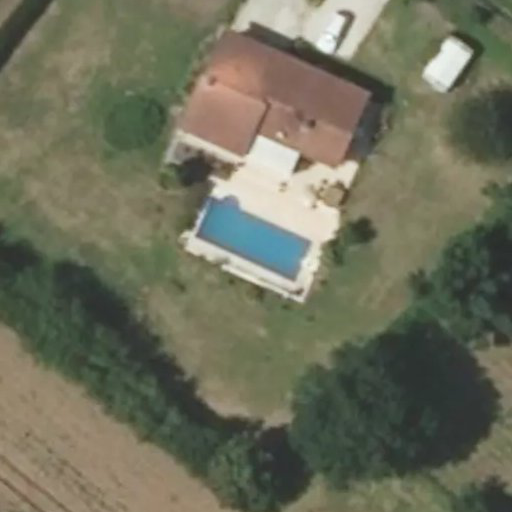pool: (199, 240, 311, 243)
